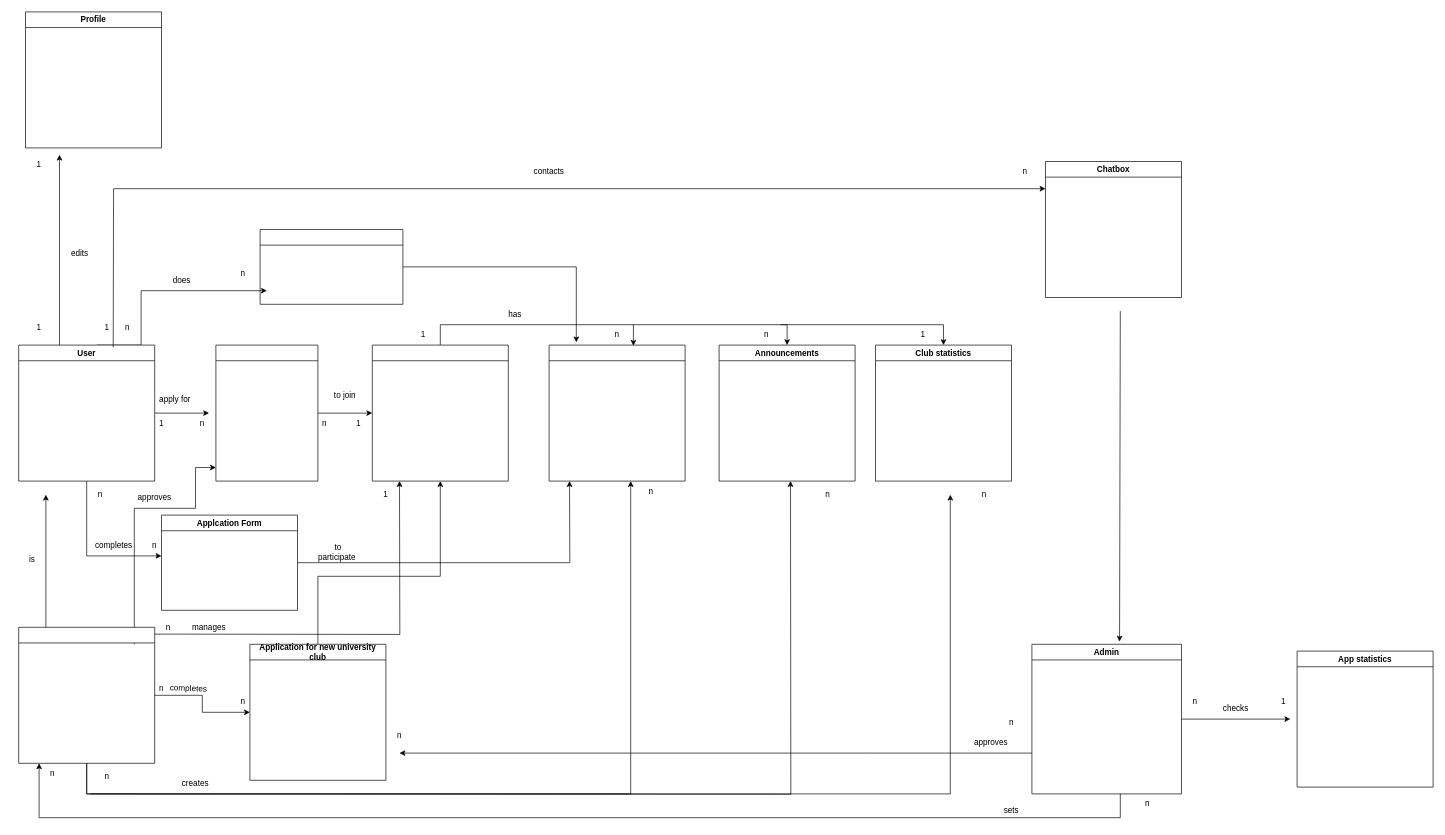
Some shapes in this 1445 by 835 pixel diagram are drawn without their labels. The shapes that lost their labels are listed below. From the top down, each one's box as (x1, y1, x2, y2) in pixels, then its label:
(259, 229, 403, 304): Review
(215, 344, 318, 481): Membership
(372, 344, 508, 481): University Club
(548, 344, 685, 481): Events
(18, 627, 155, 763): Manager
